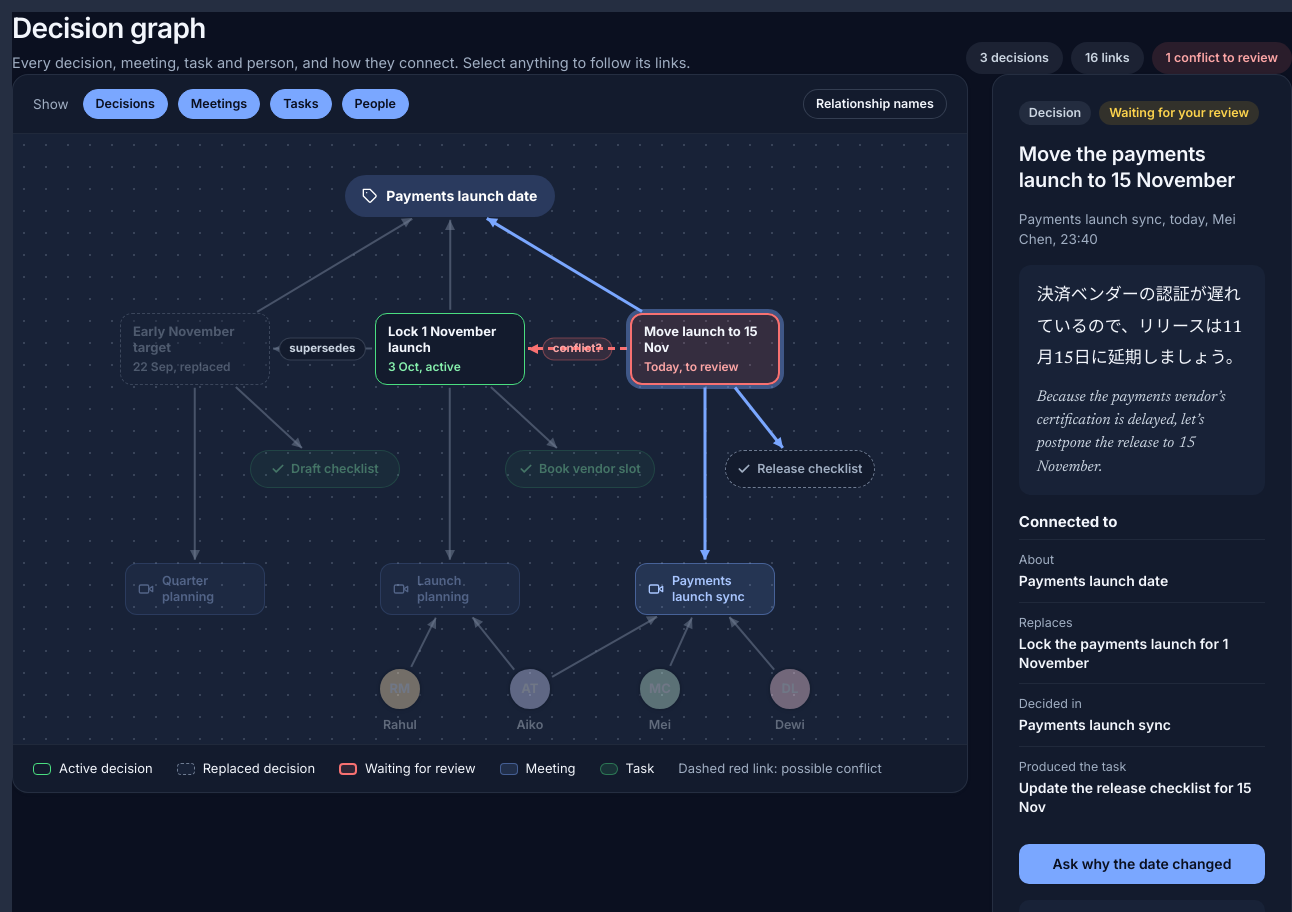
Test: filters and labels › hides people and tasks independently
Click the button "People".
click(375, 104)  # box [342,89,409,119]
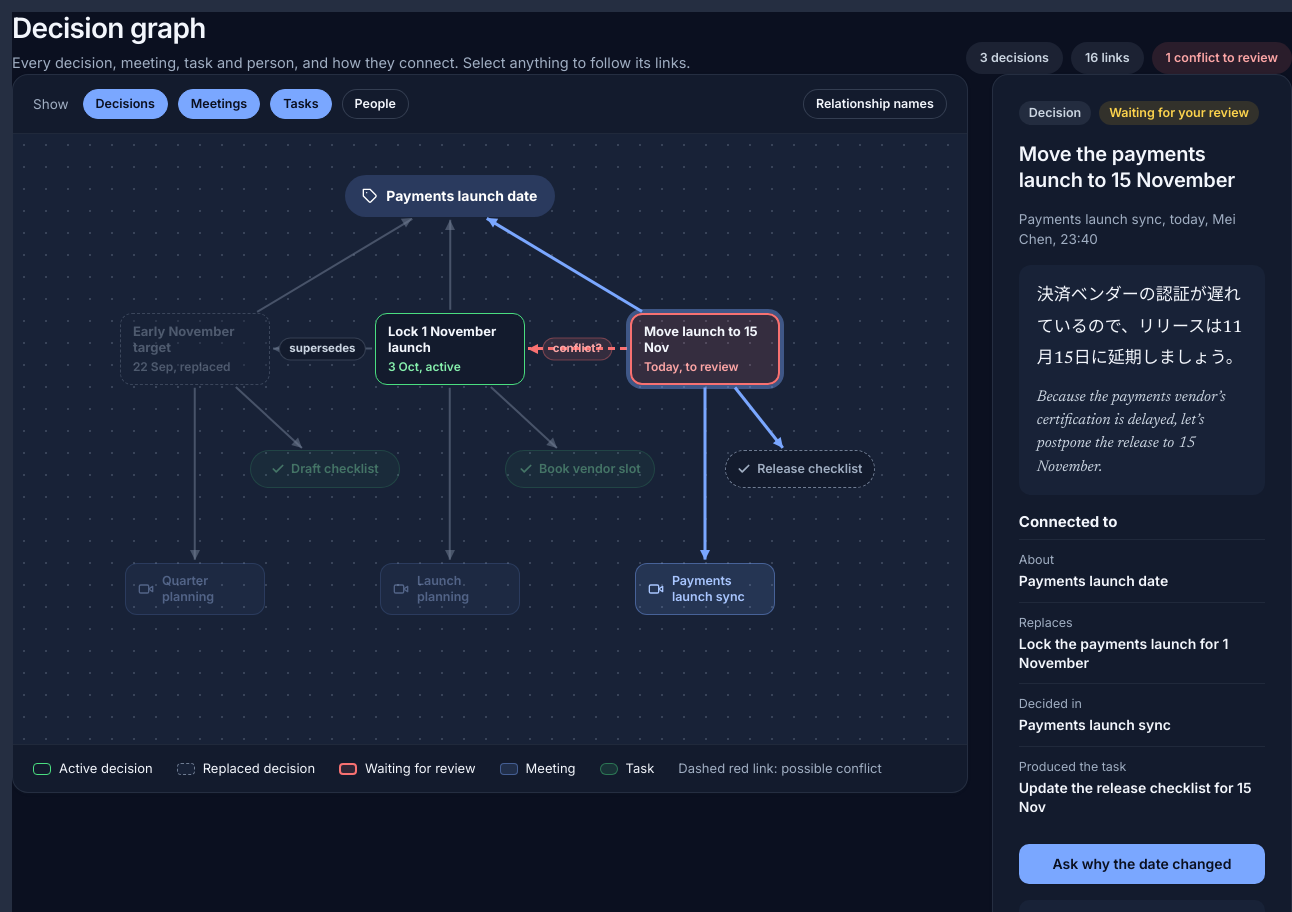
Click the button "Tasks".
click(301, 104)  # box [270,89,332,119]
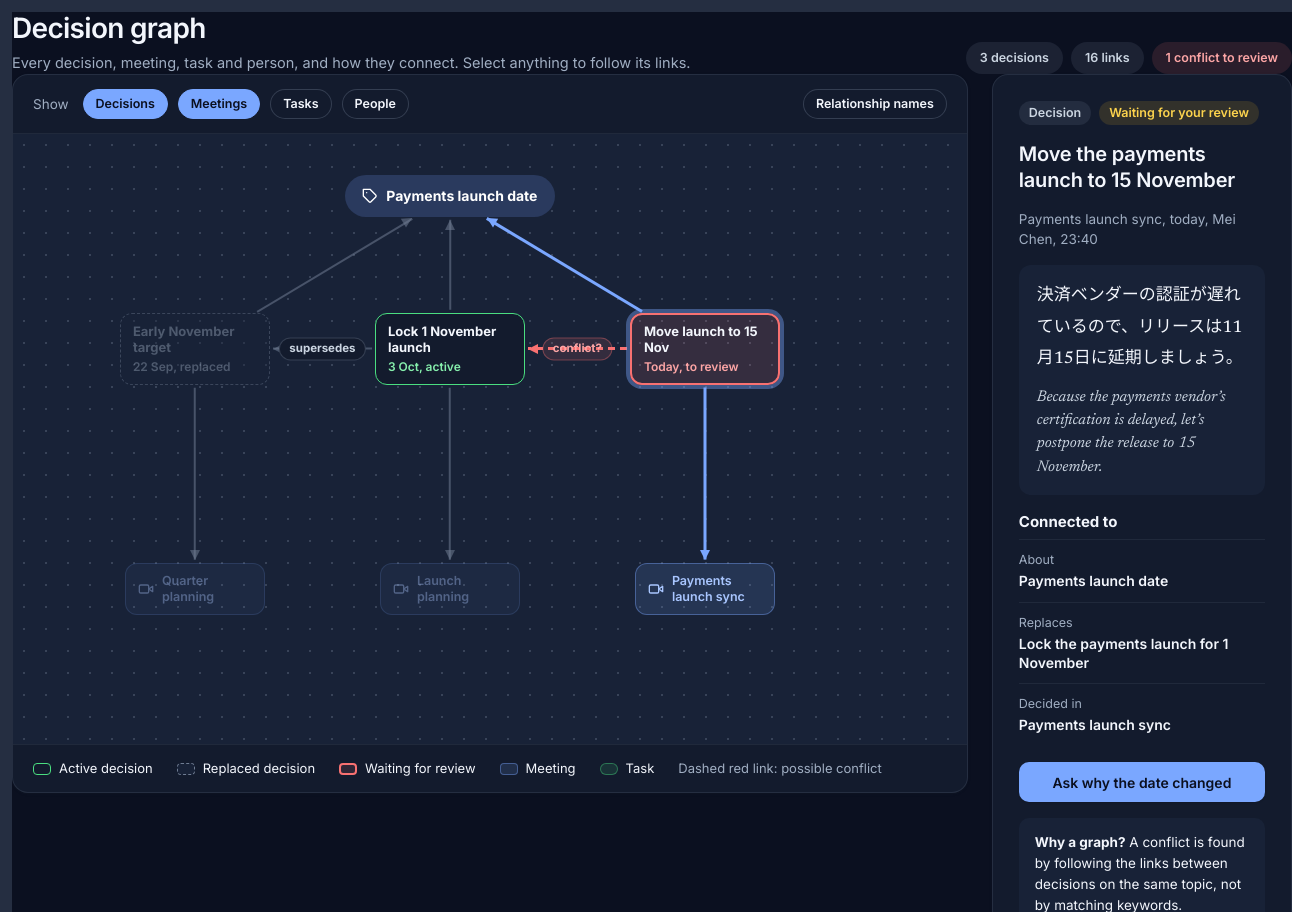
Click the button "People".
click(375, 104)  # box [342,89,409,119]
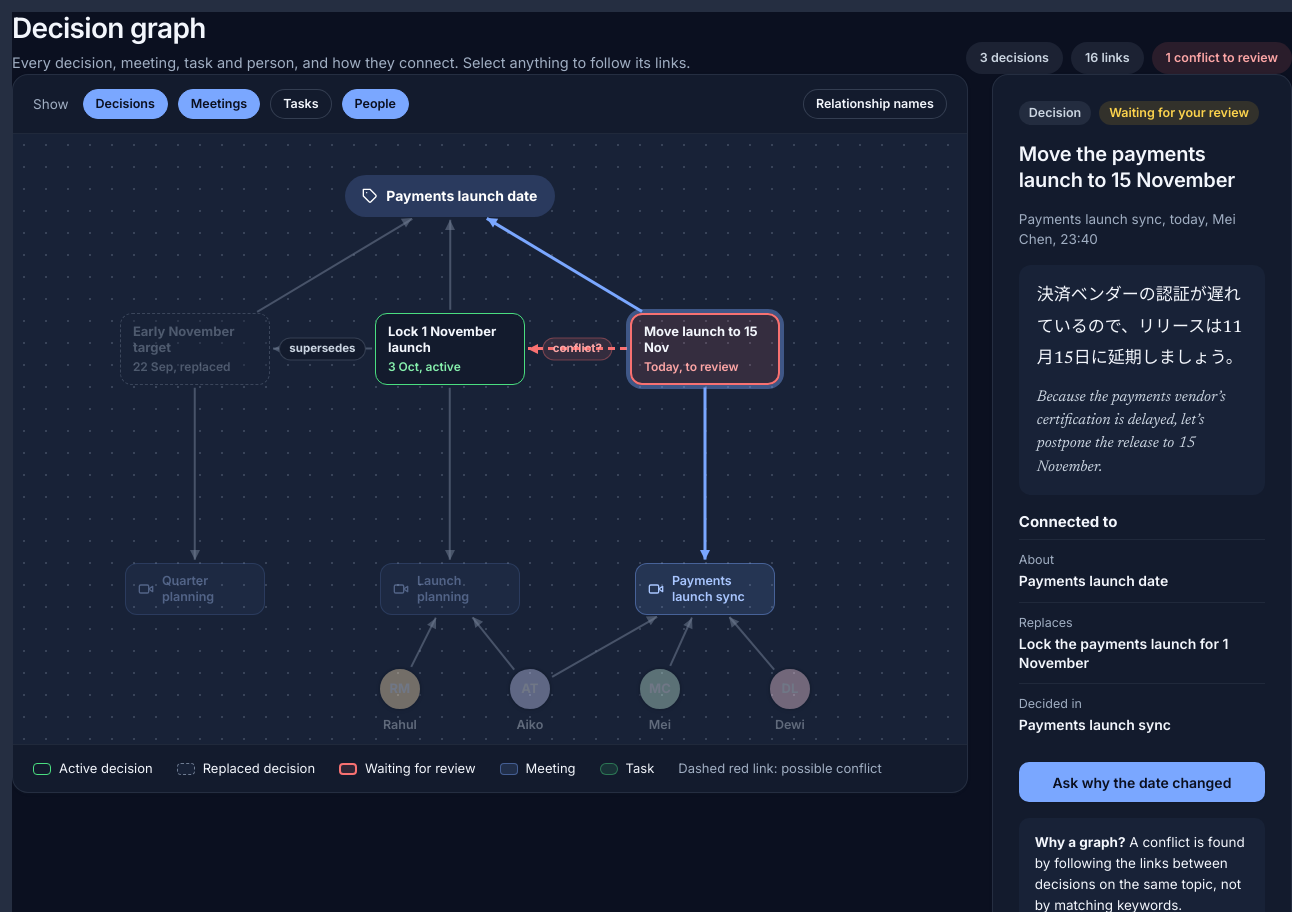
Check: the button with aria-label "Person: Rahul Menon" is shown, box [378,667,422,711]
